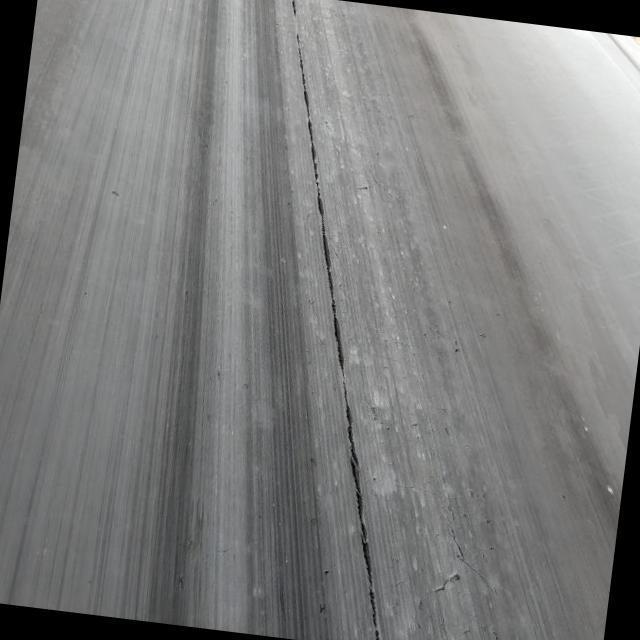Tear: (290, 0, 388, 640)
